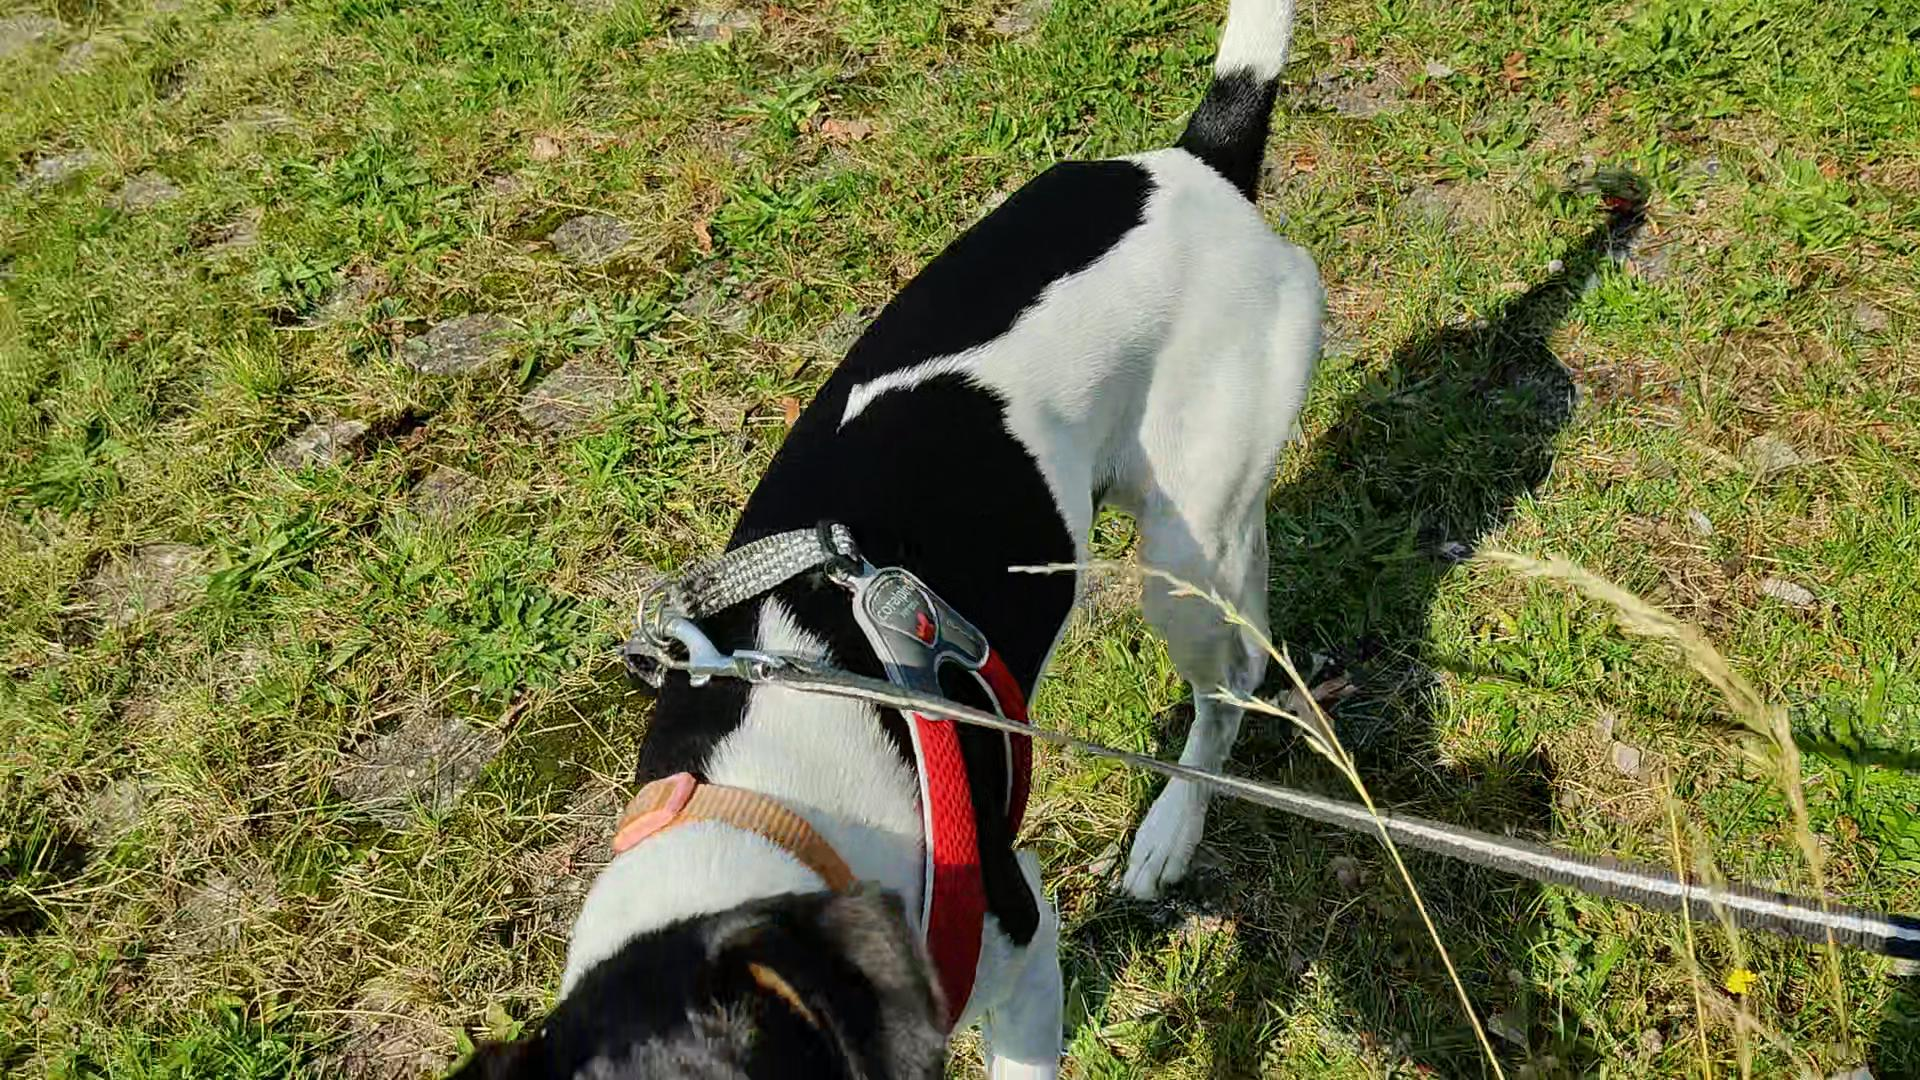Dog: (444, 0, 1329, 1079)
